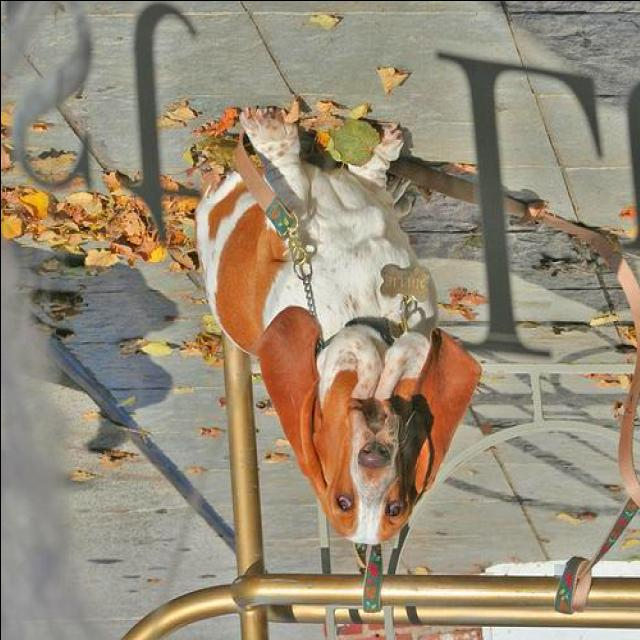basset: (193, 106, 480, 548)
